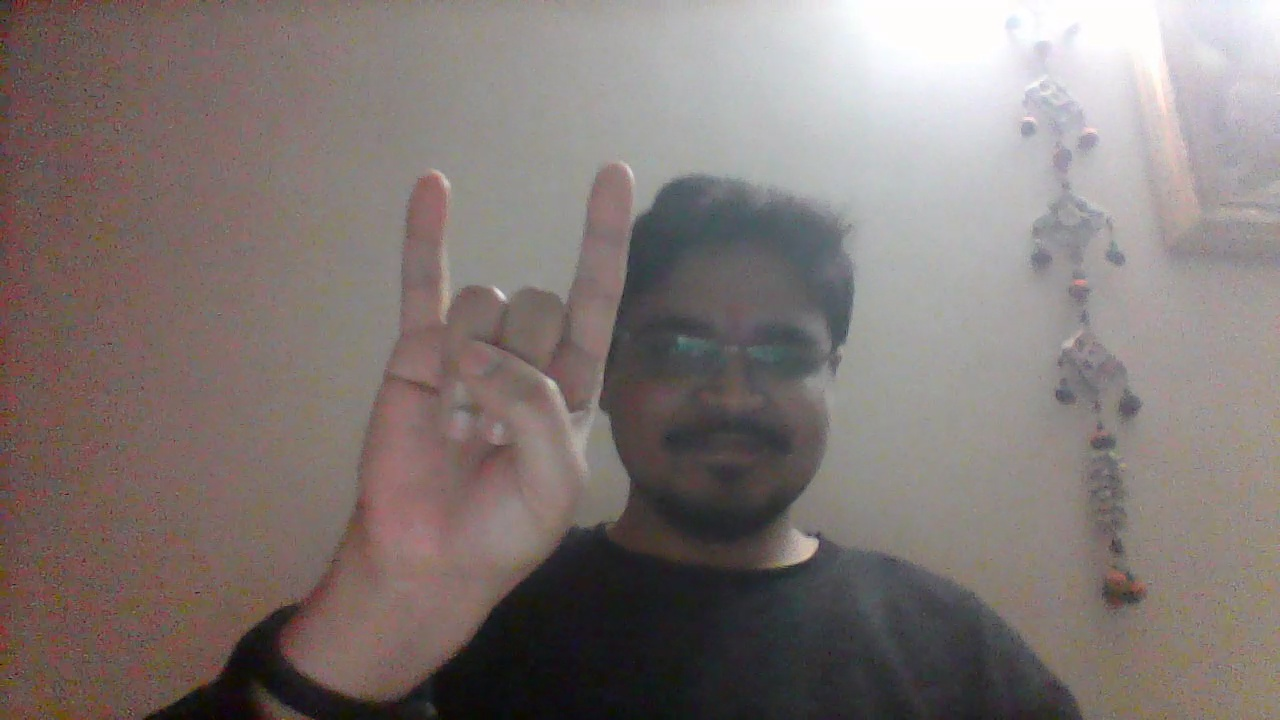ILoveYou: (334, 159, 640, 706)
